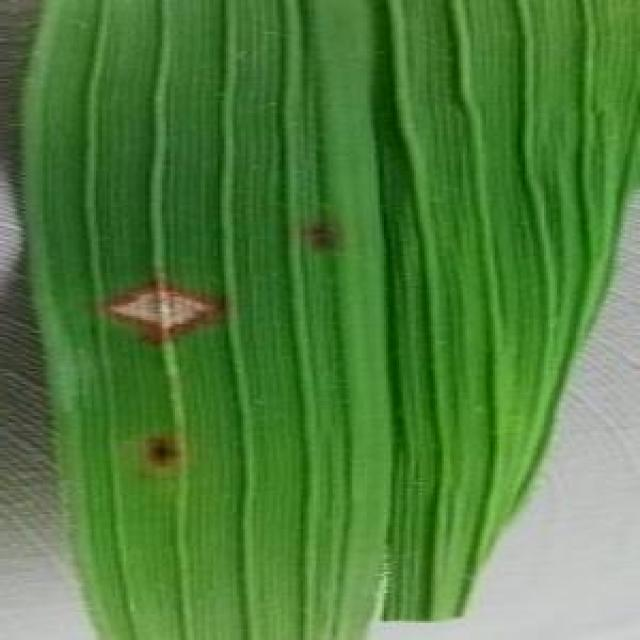Brown_Spot: (80, 272, 240, 356)
